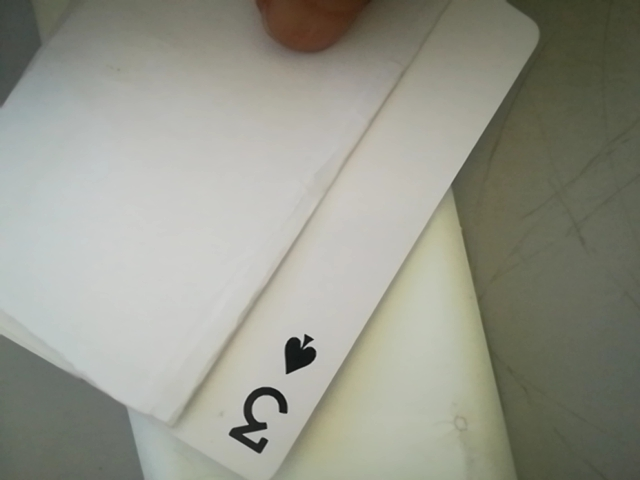ht 3: (207, 328, 329, 467)
